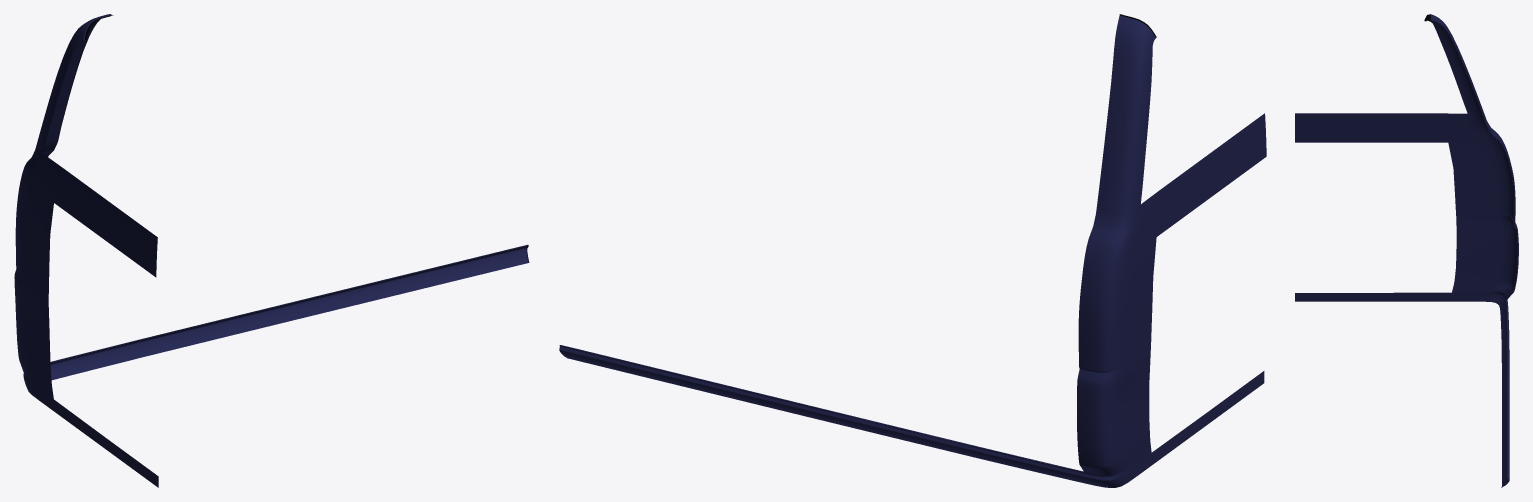
3 renders of one model, left to right at view 1: azimuth 30°, elevation 25°; view 2: azimuth 150°, elevation 25°; view 3: azimuth 270°, elevation 25°, orthographic. The views are drawn at different scales.
Visible parts, largest first — view 1: U803_3A_181X_L_1_DaS_U803_3A_181X_L, U803_3A_181X_L_1_DaS_U803_3A_181X_L_E; view 2: U803_3A_181X_L_1_DaS_U803_3A_181X_L, U803_3A_181X_L_1_DaS_U803_3A_181X_L_E; view 3: U803_3A_181X_L_1_DaS_U803_3A_181X_L, U803_3A_181X_L_1_DaS_U803_3A_181X_L_E.
Part boxes in pixels (x1,y1,x2,y2): U803_3A_181X_L_1_DaS_U803_3A_181X_L: (14, 14, 528, 487); U803_3A_181X_L_1_DaS_U803_3A_181X_L_E: (47, 14, 529, 361); U803_3A_181X_L_1_DaS_U803_3A_181X_L: (559, 15, 1266, 487); U803_3A_181X_L_1_DaS_U803_3A_181X_L_E: (560, 37, 1156, 472); U803_3A_181X_L_1_DaS_U803_3A_181X_L: (1295, 14, 1517, 486); U803_3A_181X_L_1_DaS_U803_3A_181X_L_E: (1429, 14, 1518, 487).
Size of the model in its own units: 176 by 130 by 88.6.
